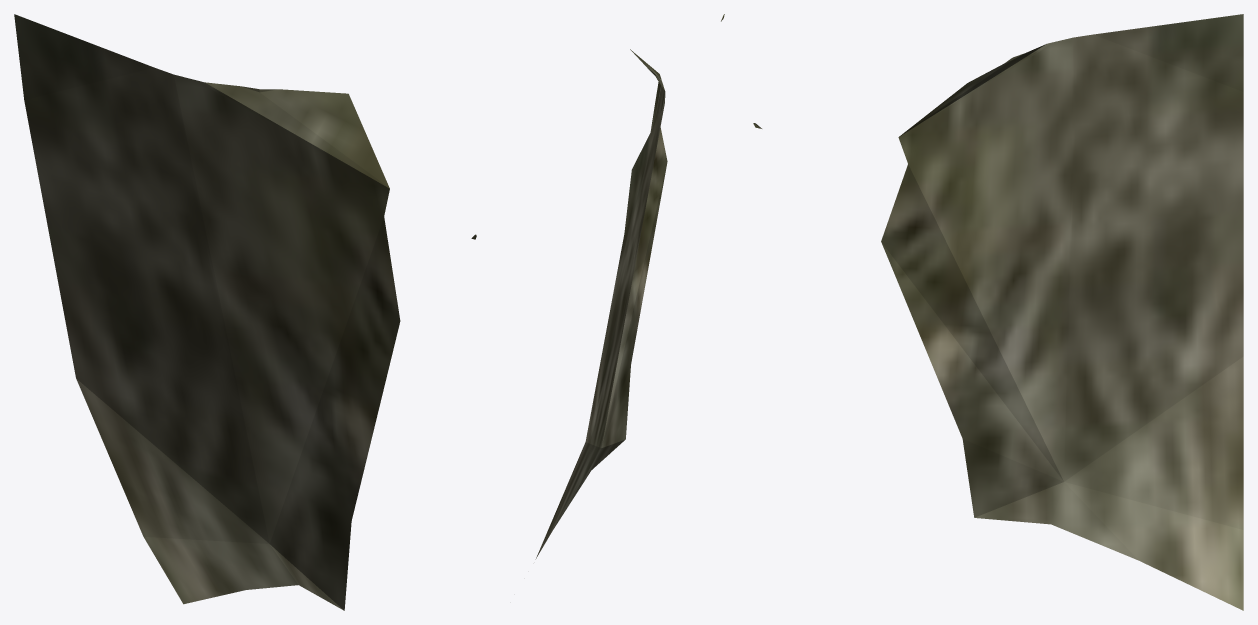
3 views of the same model, side by side, from view 1: azimuth 30°, elevation 25°; view 2: azimuth 150°, elevation 25°; view 3: azimuth 270°, elevation 25° (orthographic). The views are drawn at different scales.
Size of the model in its own units: 0.5705 by 2.03 by 1.71.
1 material, 1 textured.
